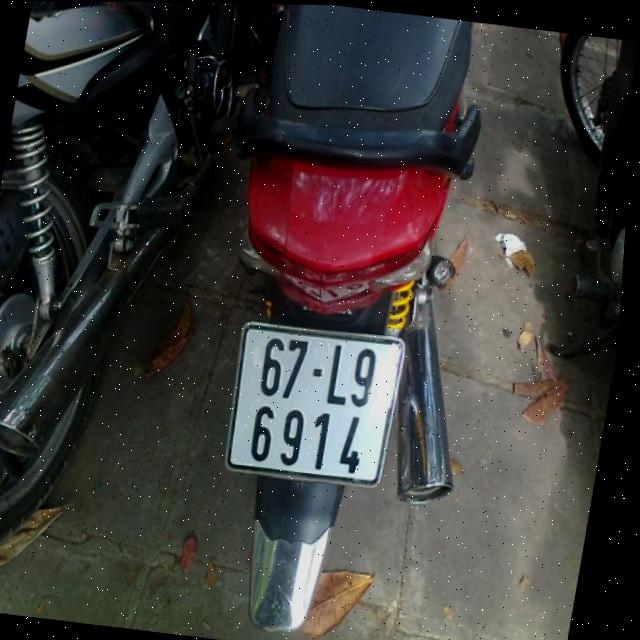motorcycle: (158, 3, 534, 640), (0, 0, 272, 593)
plate: (211, 313, 414, 493)
